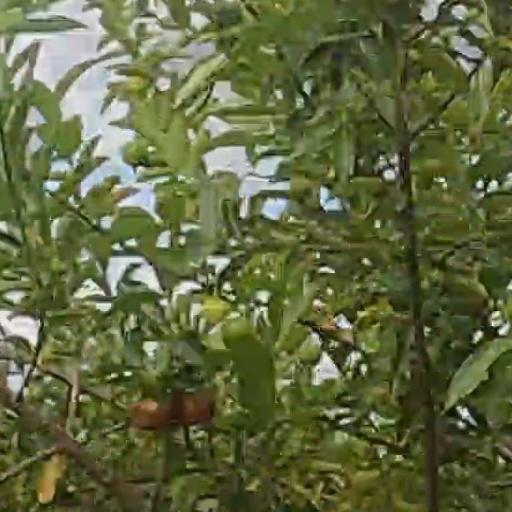acerola: (174, 390, 215, 420), (133, 397, 167, 427)
